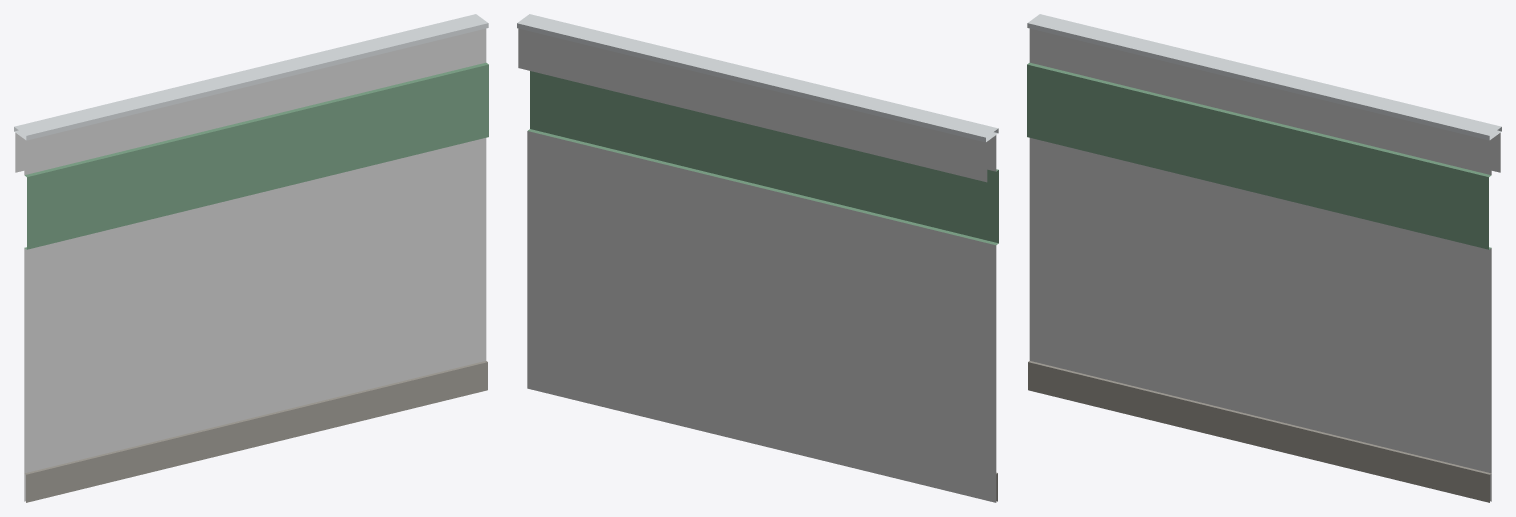
3 views of the same model, side by side, from view 1: azimuth 30°, elevation 25°; view 2: azimuth 150°, elevation 25°; view 3: azimuth 330°, elevation 25° (orthographic).
Parts seen in each view (by area): view 1: a2020/0/base-w3; view 2: a2020/0/base-w3; view 3: a2020/0/base-w3.
Part boxes in pixels (x1=…): a2020/0/base-w3: x1=14, y1=14, x2=488, y2=502; a2020/0/base-w3: x1=517, y1=14, x2=998, y2=502; a2020/0/base-w3: x1=1027, y1=14, x2=1501, y2=502.
Size of the model in its own units: 6 by 4.56 by 0.29.
